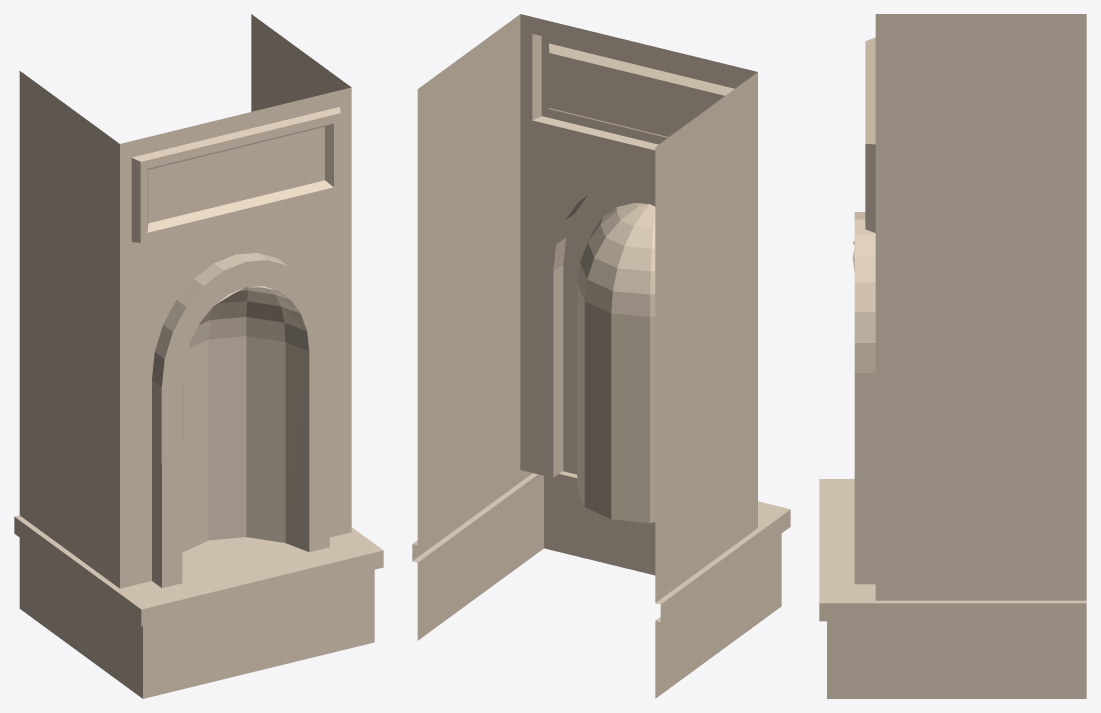
File: BC_TopArcPillar_A.fbx
3 views of the same model, side by side, from view 1: azimuth 30°, elevation 25°; view 2: azimuth 150°, elevation 25°; view 3: azimuth 270°, elevation 25° (orthographic). The views are drawn at different scales.
Parts seen in each view (by area): view 1: BC_TopArcPillar_A; view 2: BC_TopArcPillar_A; view 3: BC_TopArcPillar_A.
Part boxes in pixels (x1,y1,x2,y2): BC_TopArcPillar_A: (14, 14, 383, 698); BC_TopArcPillar_A: (412, 14, 790, 698); BC_TopArcPillar_A: (819, 14, 1086, 698).
Size of the model in its own units: 391 by 831 by 356.
